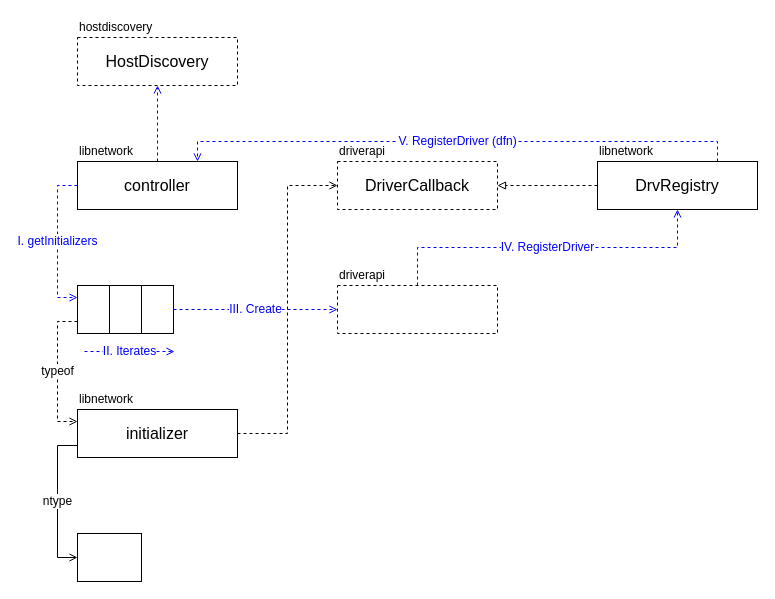
Some shapes in this 775 by 599 pixel diagram are drawn without their labels. Here are the shapes that lost their labels. From the top down, the centre of each, then its label:
At [417,309]: "Driver".
At [109,557]: "string".
